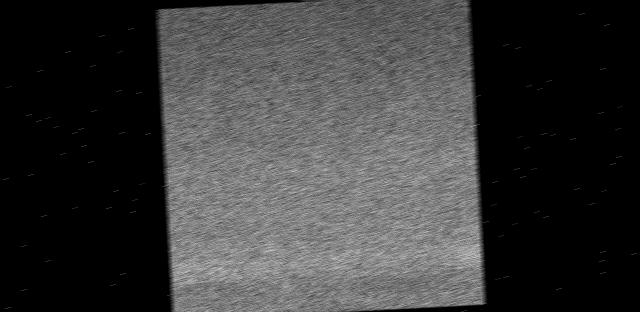silk_spot: (232, 25, 465, 215)
